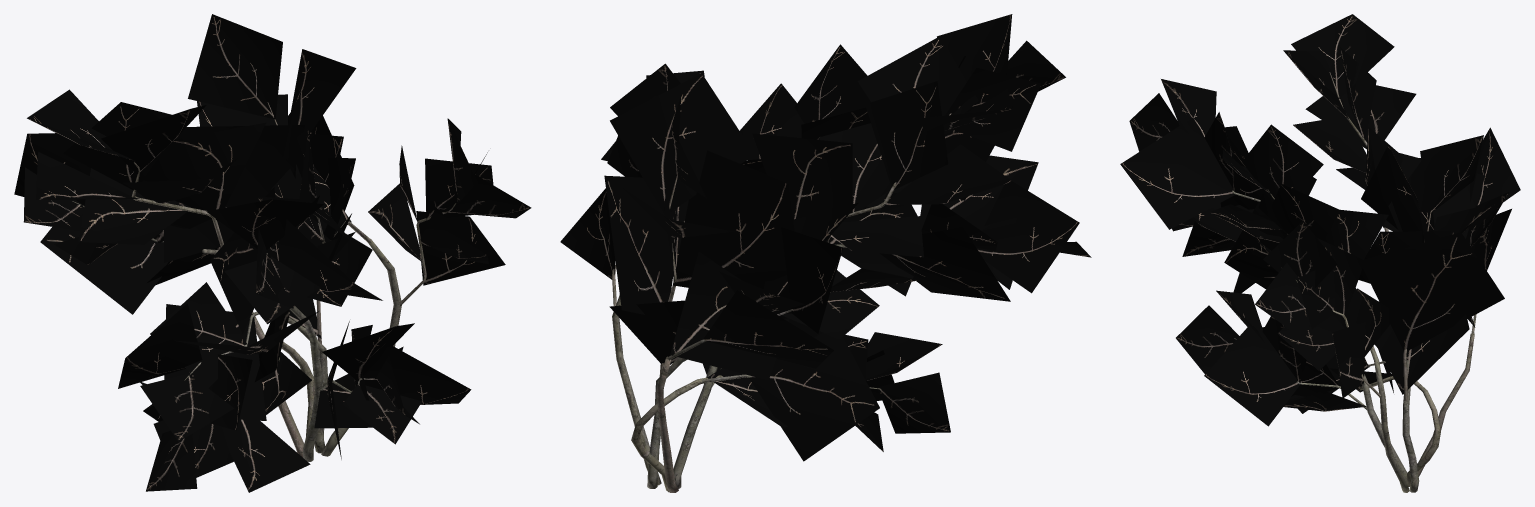
Rendered from SM_Bush_04.fbx.
3 renders of one model, left to right at view 1: azimuth 30°, elevation 25°; view 2: azimuth 150°, elevation 25°; view 3: azimuth 270°, elevation 25°, orthographic. The views are drawn at different scales.
Parts seen in each view (by area): view 1: SM_Bush_04; view 2: SM_Bush_04; view 3: SM_Bush_04.
Part boxes in pixels (box(x1,y1,x2,y2)): SM_Bush_04: box(14, 14, 531, 492); SM_Bush_04: box(560, 14, 1091, 492); SM_Bush_04: box(1120, 14, 1520, 492).
Size of the model in its own units: 497 by 463 by 464.
Materials: 2 (2 with a texture image).
